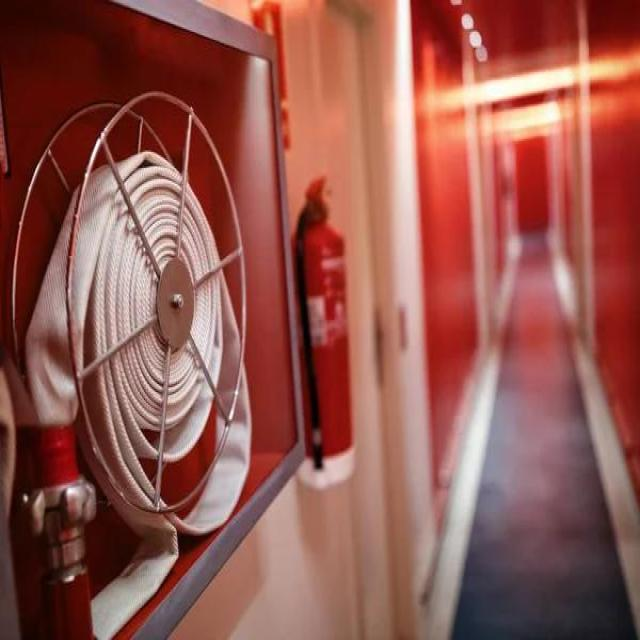fire_extinguisher: (284, 170, 361, 492)
